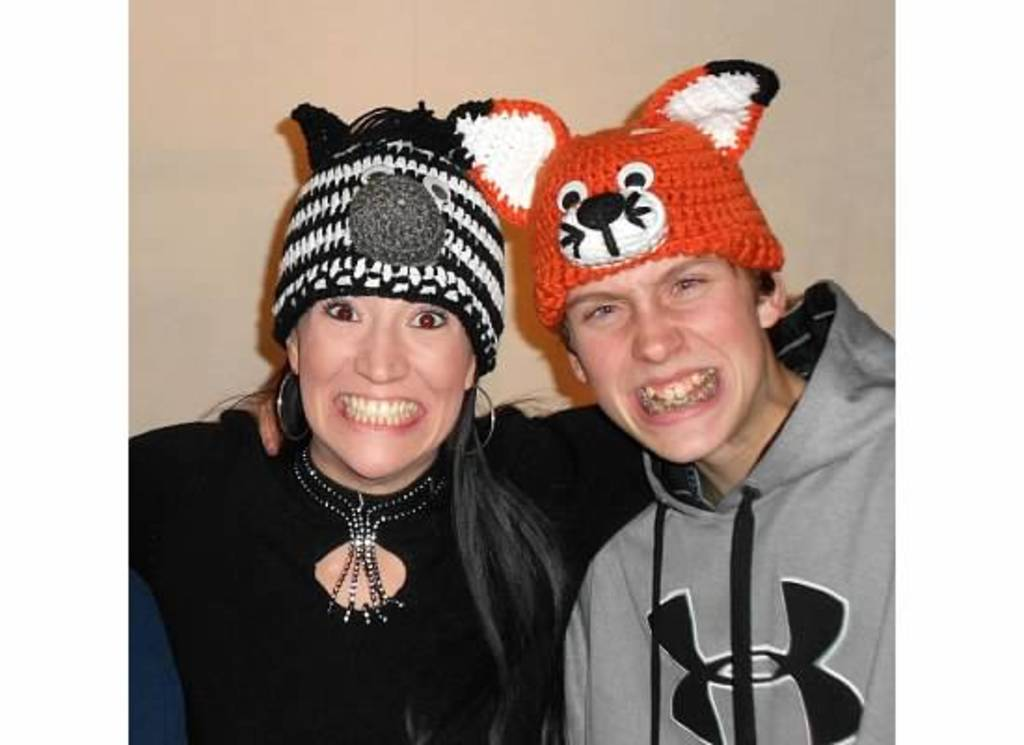Human-face: (562, 251, 763, 469), (294, 296, 469, 484)
